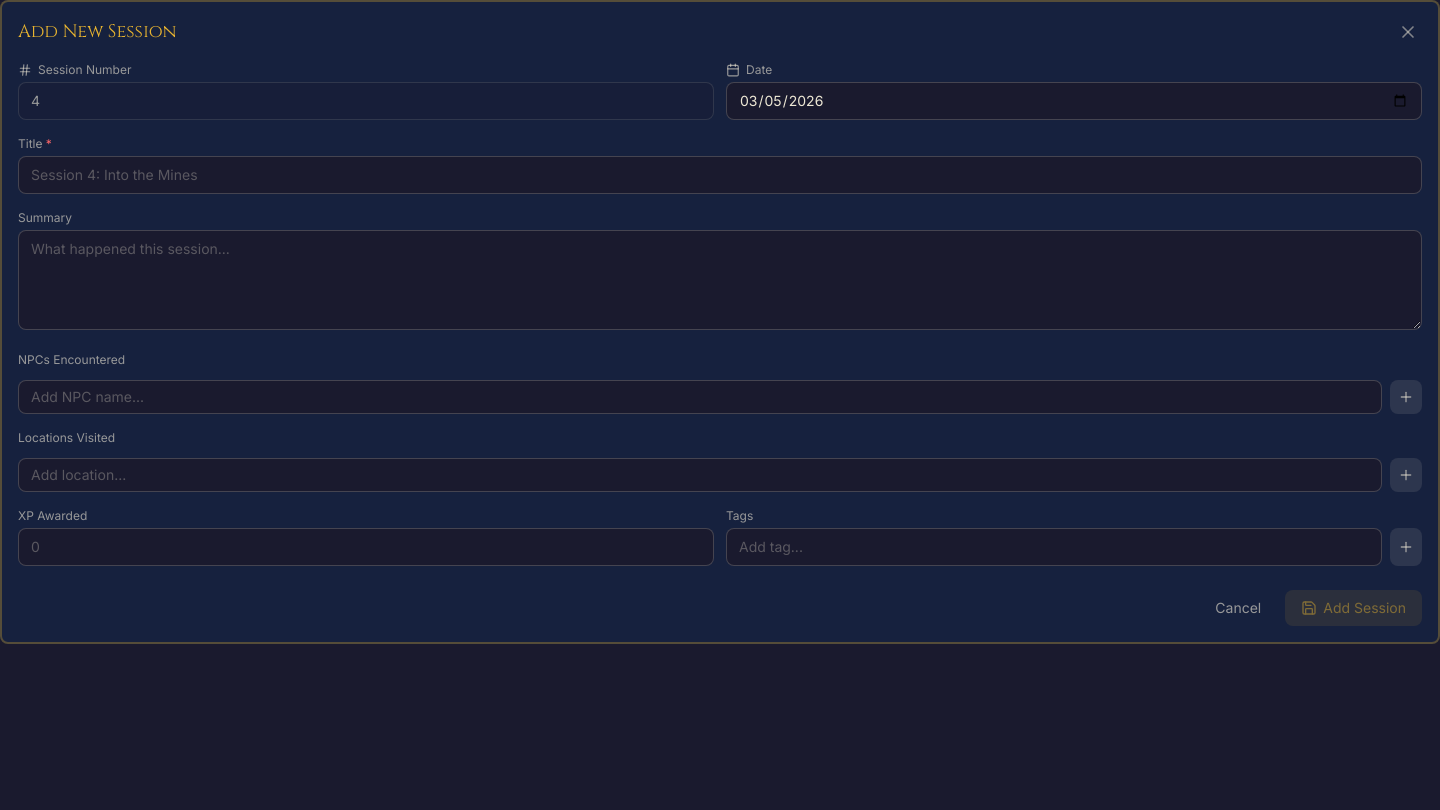
Scenario: SessionNoteForm › should require a title to submit
Expected: the button "Add Session" is disabled, [1285,590,1422,626]
# Type a title
Type "New Session" into the field named "Session title" at [720, 175], box [18,156,1422,194]
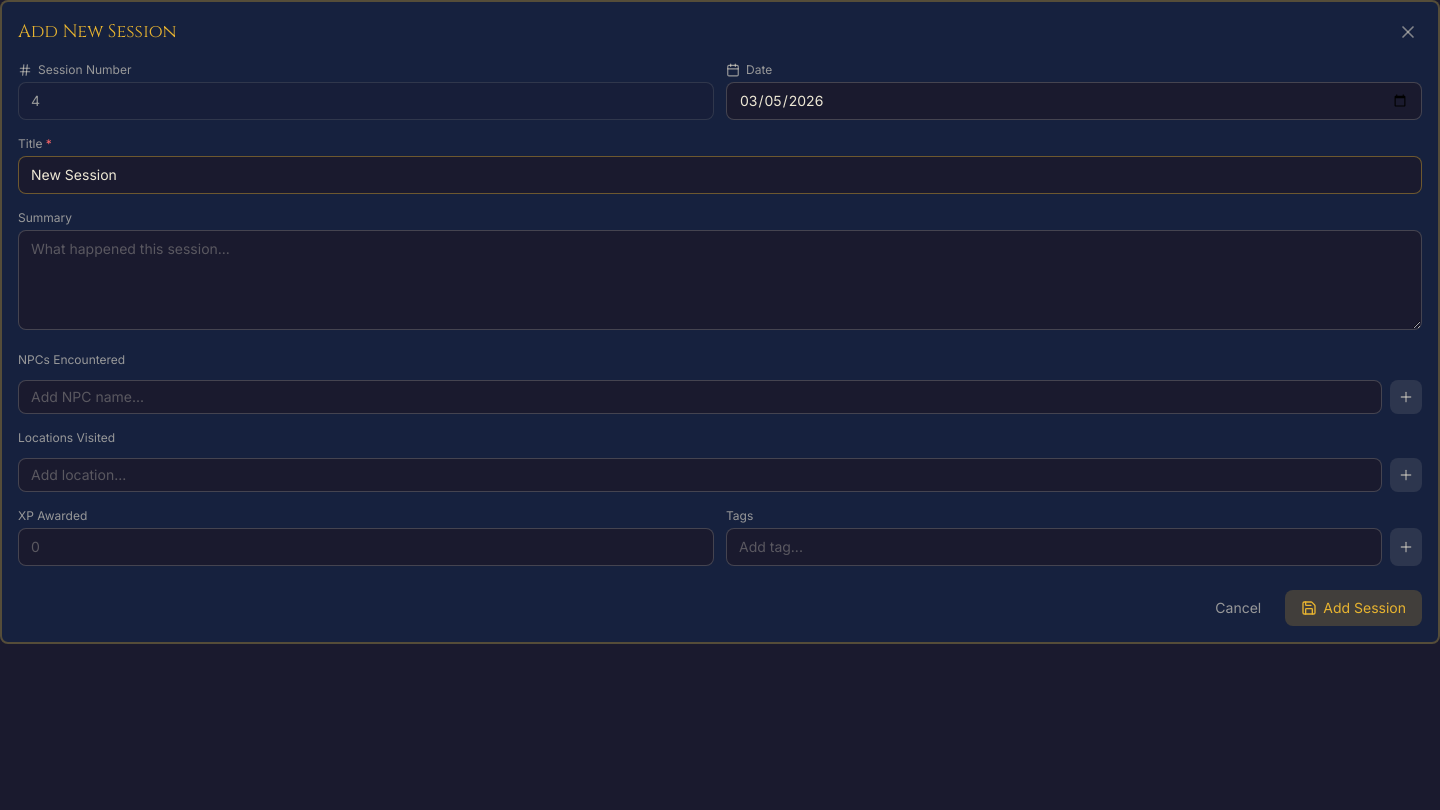
Now the button "Add Session" is enabled, box [1285,590,1422,626]
